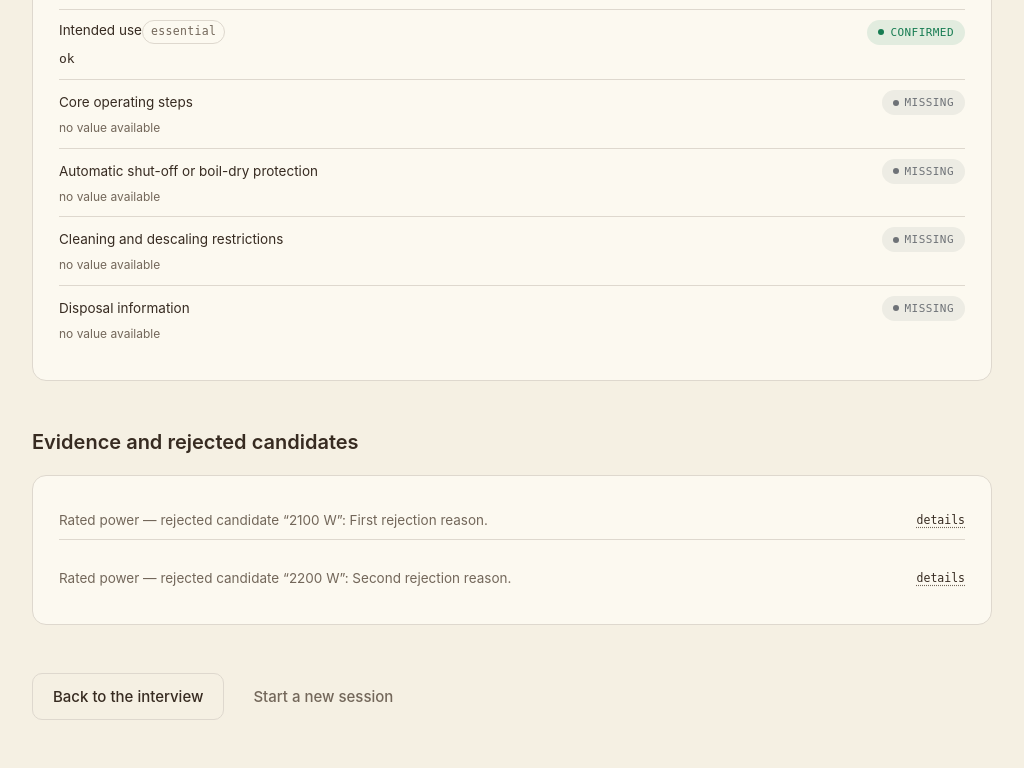
ReadinessReport › opens the selected rejected candidate details instead of always using index zero
(page scrolled)
Click the button "details" in the row of "Second rejection reason.": (941, 579) [916,568,965,590]
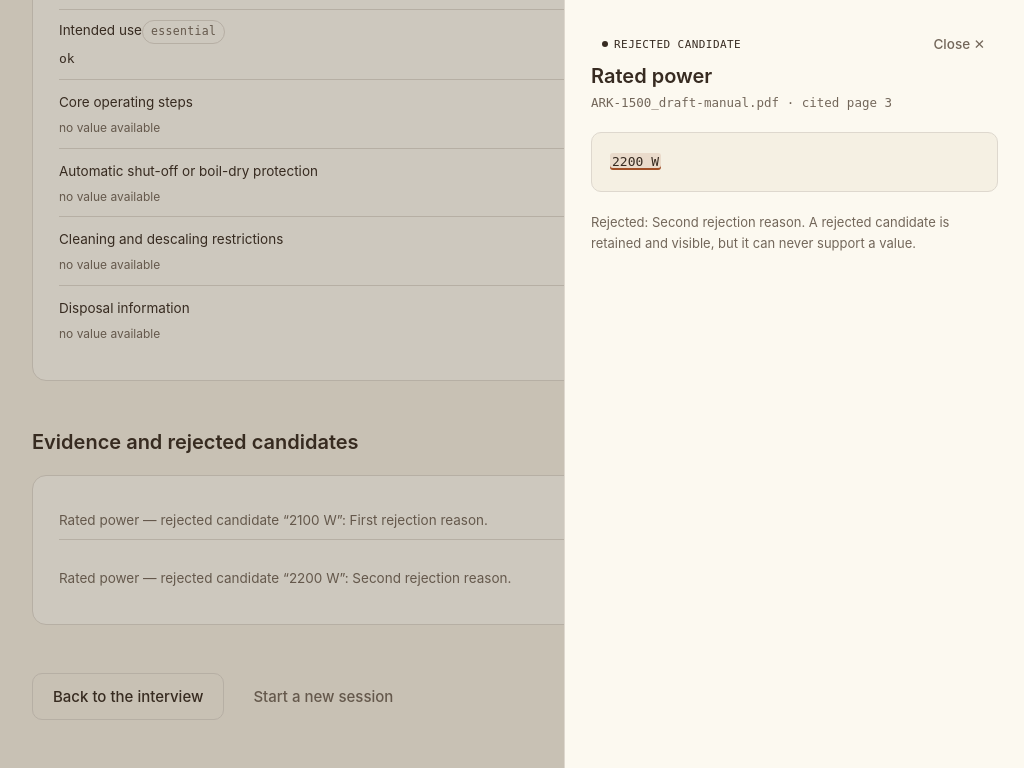
Expected: the text "ARK-1500_draft-manual.pdf · cited page 3" is shown, [591,95,892,110]
Expected: the text "Rejected: Second rejection reason." is shown, [591,214,949,250]
